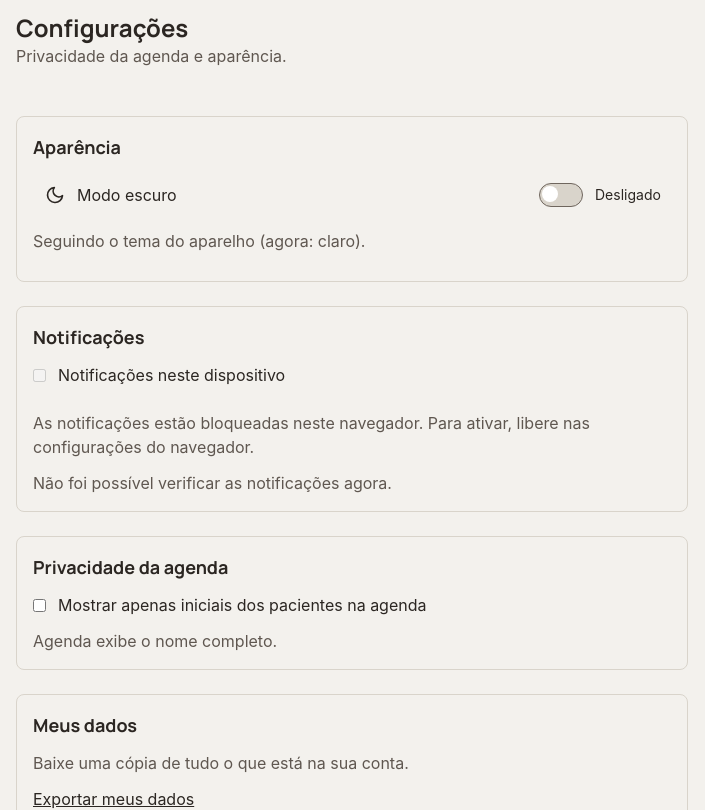
Test: Configurações › alterna privacidade da agenda e envia boolean
The width and height of the screenshot is (705, 810).
Click the switch labelled "Mostrar apenas iniciais dos pacientes na agenda" at coordinates (40, 605), box top-left (33, 598), bottom-right (46, 612)
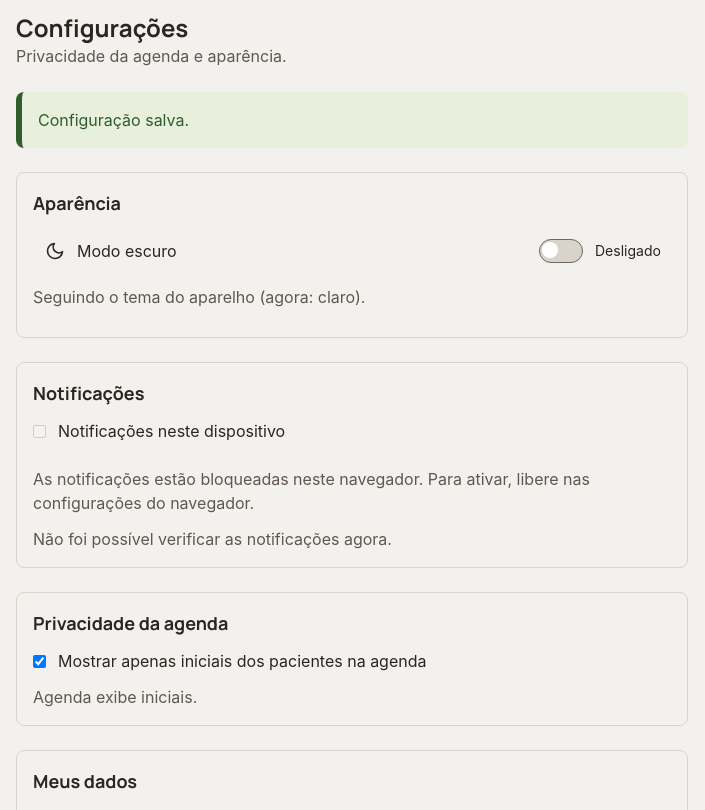
Expected: the switch labelled "Mostrar apenas iniciais dos pacientes na agenda" is checked, top-left (33, 654), bottom-right (46, 668)
Expected: the text "Agenda exibe iniciais." is shown, top-left (33, 687), bottom-right (197, 707)
Expected: the text "Configuração salva." is shown, top-left (16, 92), bottom-right (688, 148)
